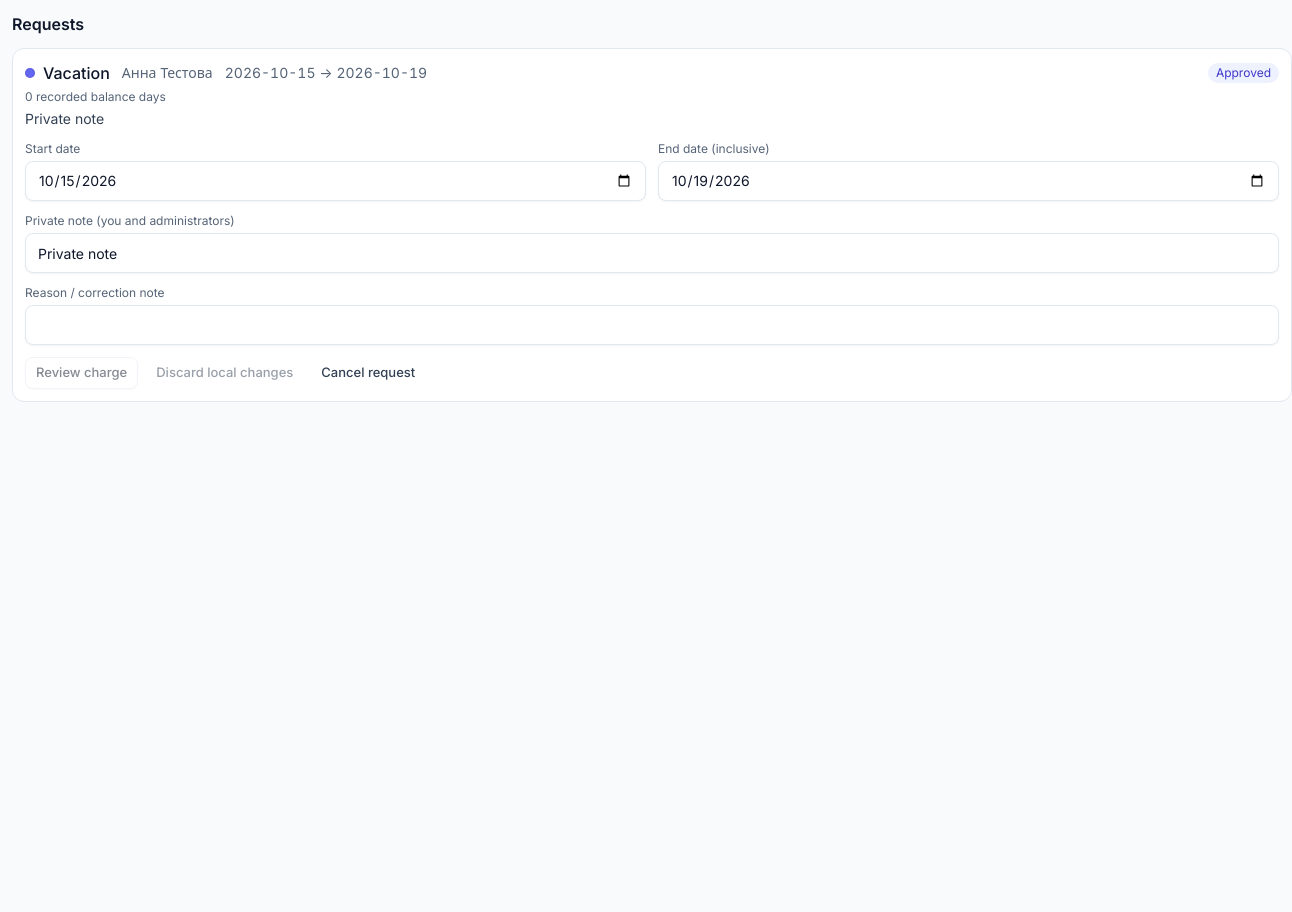
Test: historical absence correction advisory › shows ordinary deficit warnings for same-day or future requests
Type "2026-10-18" into the date field labelled "End date (inclusive)" at (968, 181), box [658,161,1279,201]
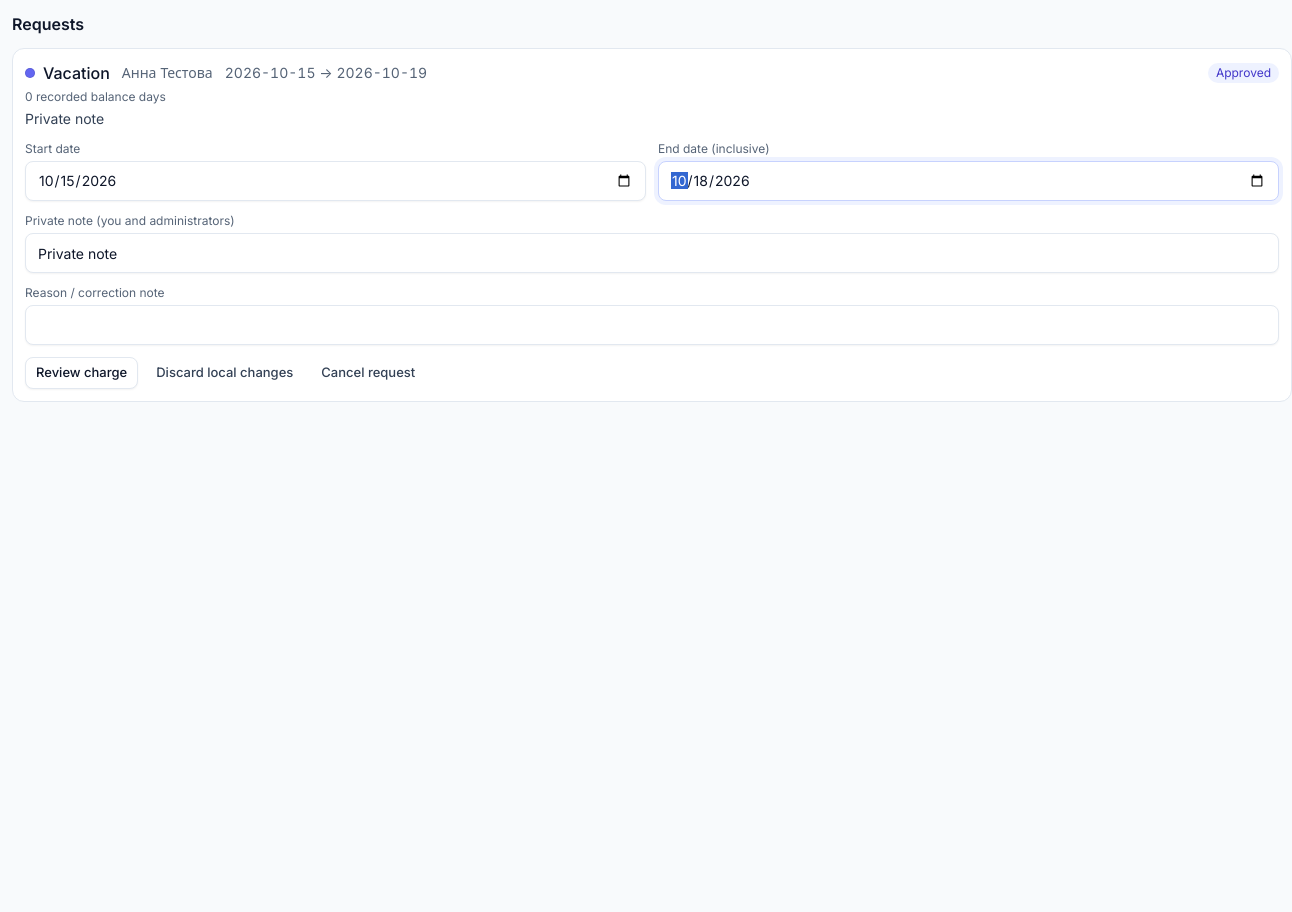
Type "Some reason" into the field labelled "Reason / correction note" at (652, 325), box [25,305,1279,345]
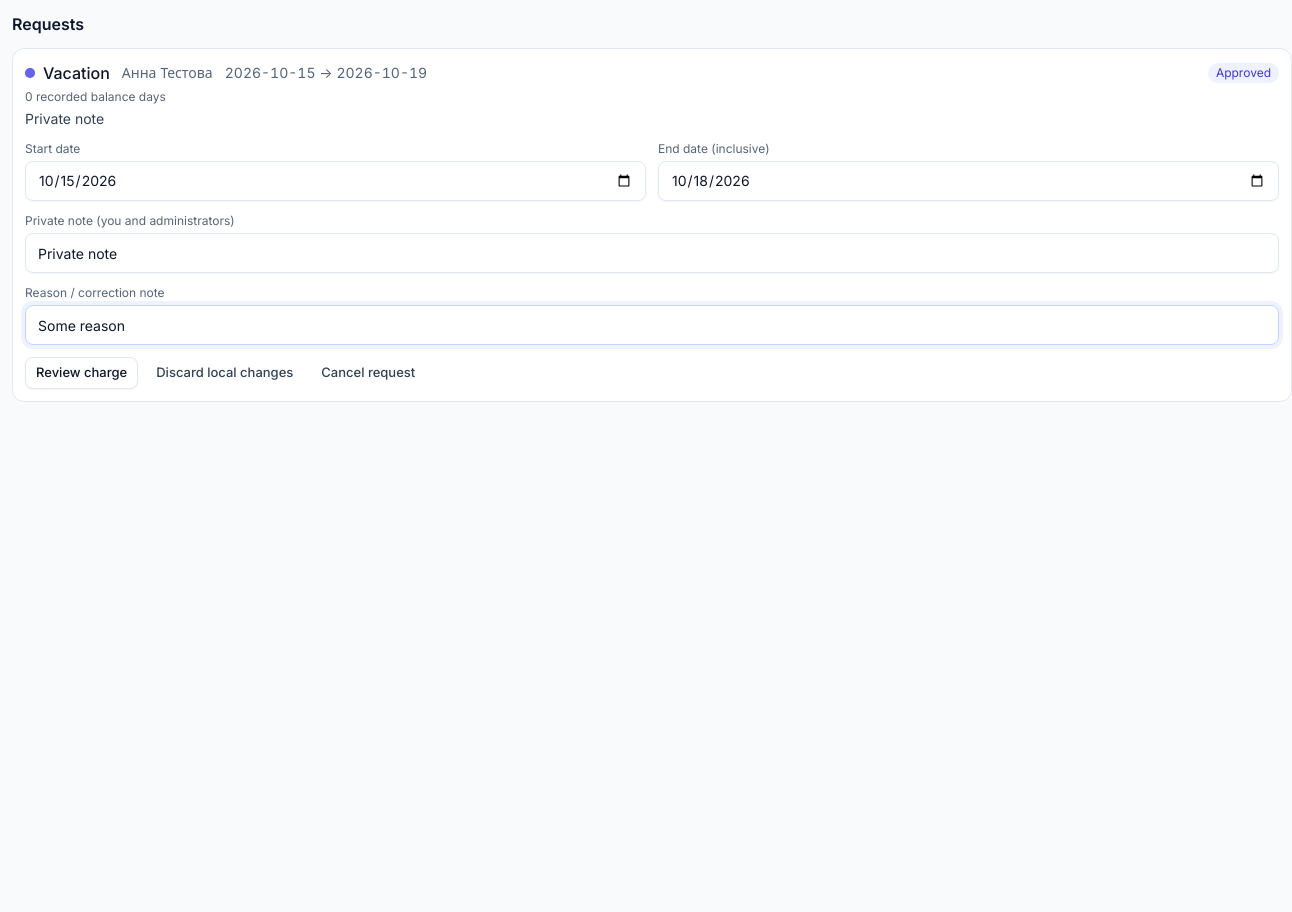
Click the button "Review charge" at (82, 373), box [25,357,138,389]
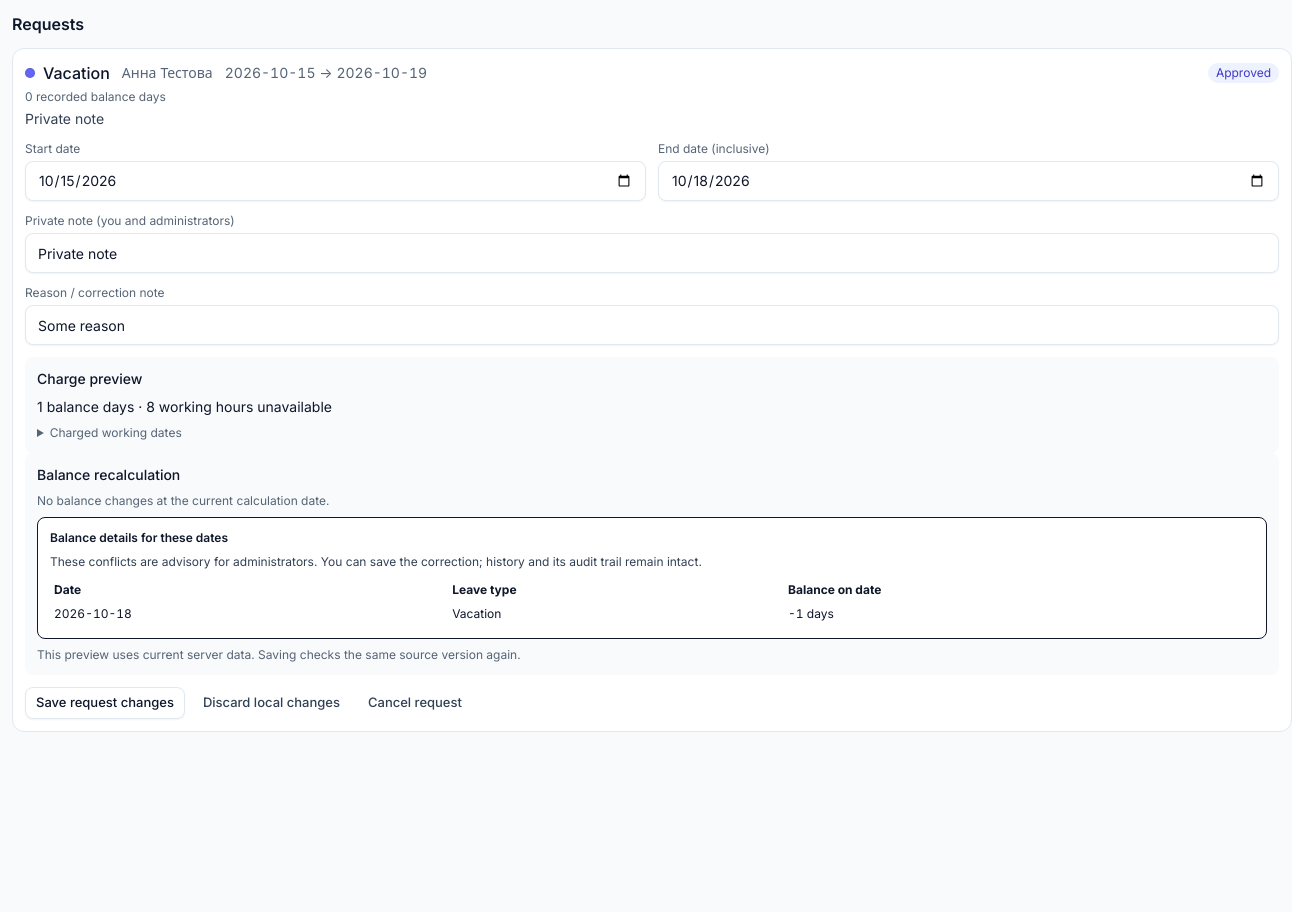
Now the element "Balance details for these dates" is shown, box [37,517,1267,639]
Now the text "You can save the correction" is shown, box [50,554,702,569]
